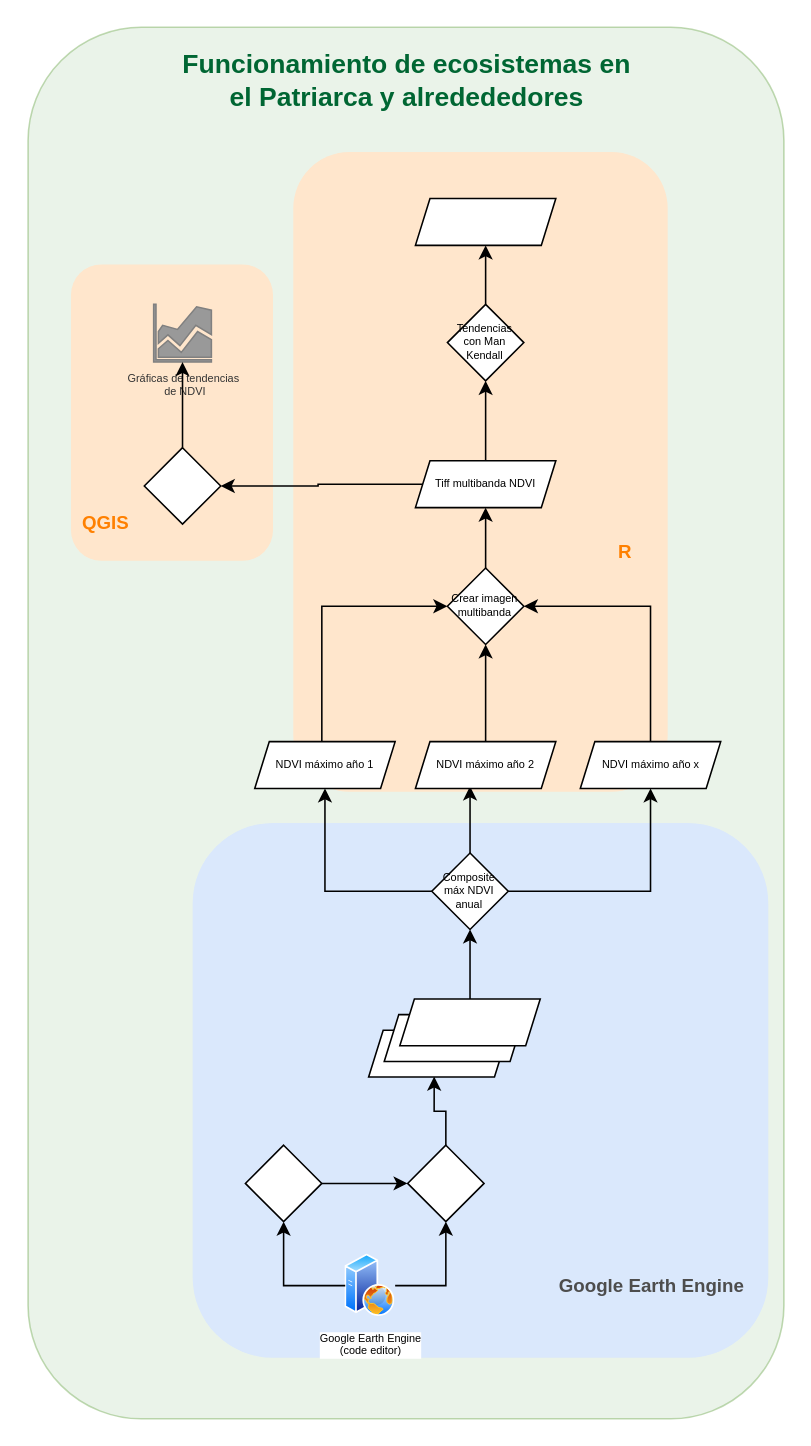
The diagram is 811 pixels wide and 1446 high, and some of its shapes have lost their labels. The shapes that lost their labels are listed below. From the top down, each one's centre as x and y in pixels, then its label:
[485,221]: Tendencia NDVI en toda la serie temporal
[182,485]: Visualizar en QGIs con plugin Profile tool
[469,1021]: NDVI cada 16 dias
[283,1183]: Importar area de interés
[445,1183]: Seleccionar serie Landsat 7
